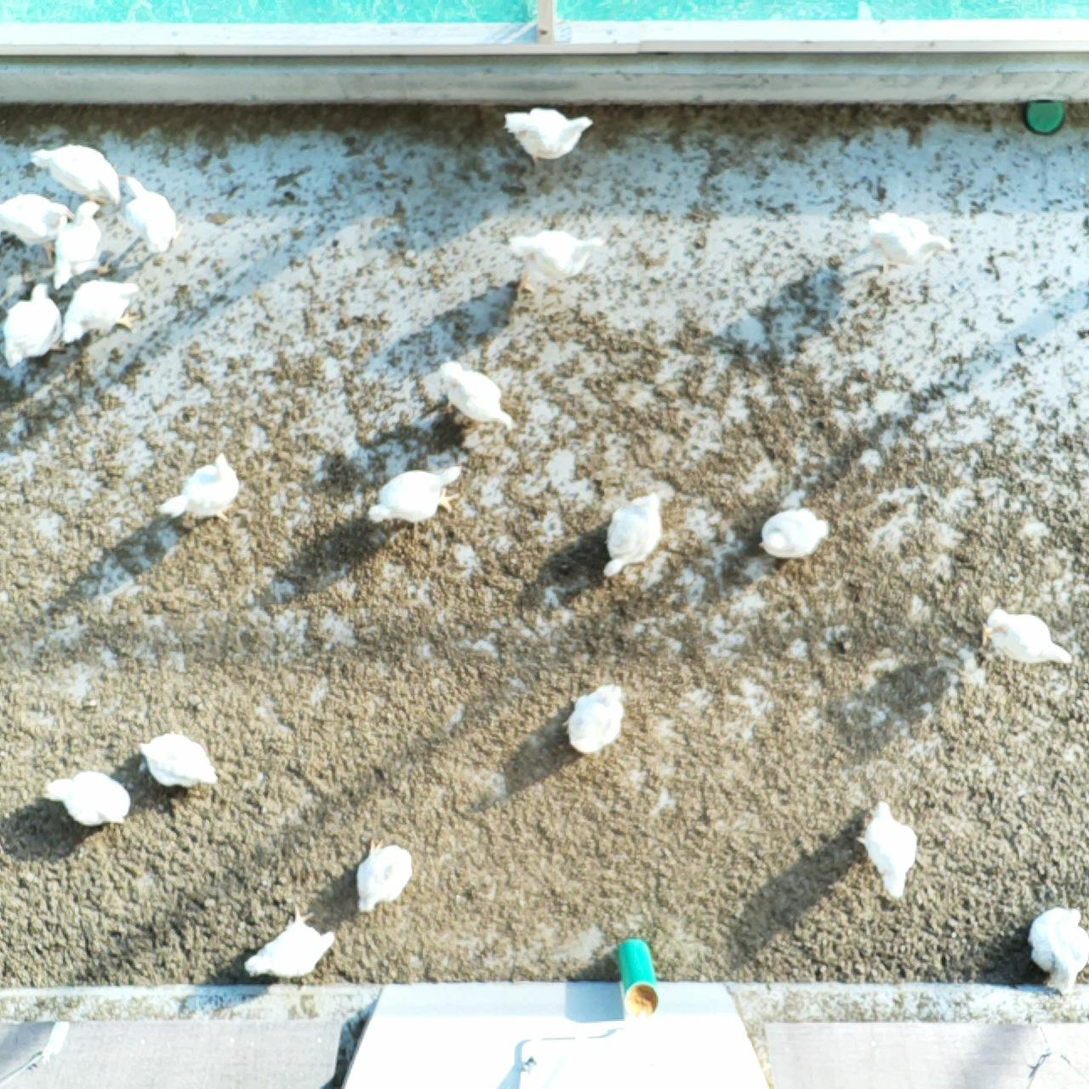chicken: (503, 222, 603, 301), (974, 603, 1074, 681), (149, 448, 244, 529), (242, 901, 336, 982), (366, 461, 470, 531), (599, 488, 670, 579), (855, 799, 918, 901), (26, 144, 123, 210), (868, 212, 957, 280), (0, 282, 71, 365), (61, 279, 147, 347), (1027, 903, 1089, 997), (114, 167, 182, 252), (441, 360, 519, 433), (133, 728, 215, 795), (38, 770, 133, 827), (502, 107, 590, 168), (53, 202, 113, 291), (562, 680, 632, 755), (353, 840, 420, 916), (0, 191, 77, 255), (756, 504, 830, 562)
